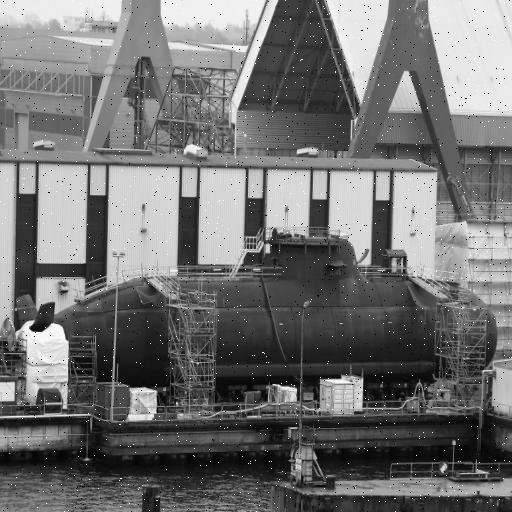submarine: (15, 226, 512, 363)
